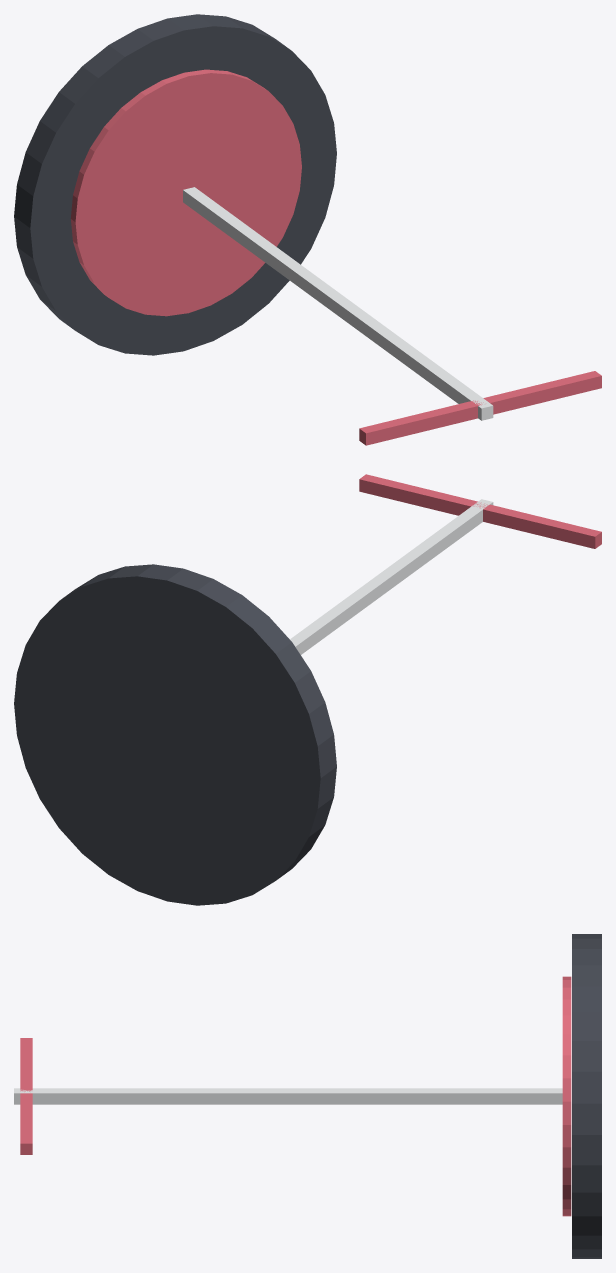
File: holographic_milestone_marker.glb
The picture shows the model from 3 angles, top to bottom: view 1: azimuth 30°, elevation 25°; view 2: azimuth 150°, elevation 25°; view 3: azimuth 270°, elevation 25°; orthographic projection. The views are drawn at different scales.
Visible parts, largest first — view 1: holographic_milestone_marker_part_1, holographic_milestone_marker_part_0, holographic_milestone_marker_part_2, holographic_milestone_marker_part_3; view 2: holographic_milestone_marker_part_0, holographic_milestone_marker_part_2, holographic_milestone_marker_part_3; view 3: holographic_milestone_marker_part_0, holographic_milestone_marker_part_2, holographic_milestone_marker_part_1, holographic_milestone_marker_part_3.
Boxes of the visible parts, bbox=[...] form: holographic_milestone_marker_part_1: bbox=[70, 69, 301, 316]; holographic_milestone_marker_part_0: bbox=[14, 14, 336, 355]; holographic_milestone_marker_part_2: bbox=[183, 187, 493, 420]; holographic_milestone_marker_part_3: bbox=[359, 371, 601, 445]; holographic_milestone_marker_part_0: bbox=[14, 564, 336, 905]; holographic_milestone_marker_part_2: bbox=[290, 499, 493, 654]; holographic_milestone_marker_part_3: bbox=[359, 474, 601, 548]; holographic_milestone_marker_part_0: bbox=[572, 934, 601, 1258]; holographic_milestone_marker_part_2: bbox=[14, 1088, 562, 1104]; holographic_milestone_marker_part_1: bbox=[562, 976, 571, 1216]; holographic_milestone_marker_part_3: bbox=[20, 1038, 32, 1154].
Bounding box in the file's own units: 1.3 × 1.3 × 2.35.
